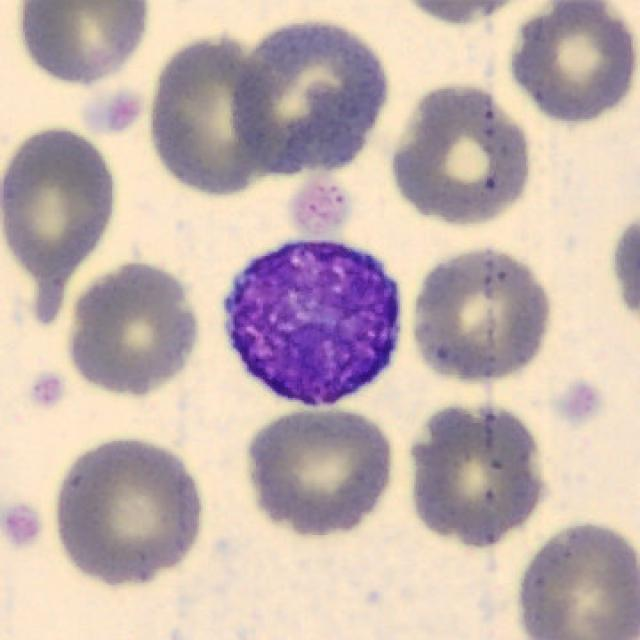Linfocito: (224, 242, 400, 409)
